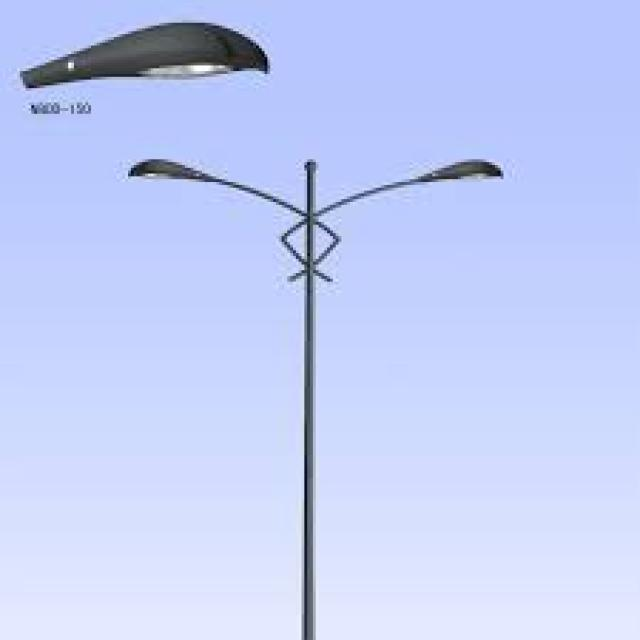Street Light: (127, 153, 503, 640)
